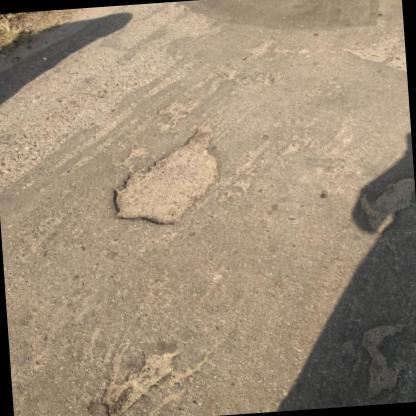pothole: (102, 121, 228, 232), (92, 346, 188, 416)
